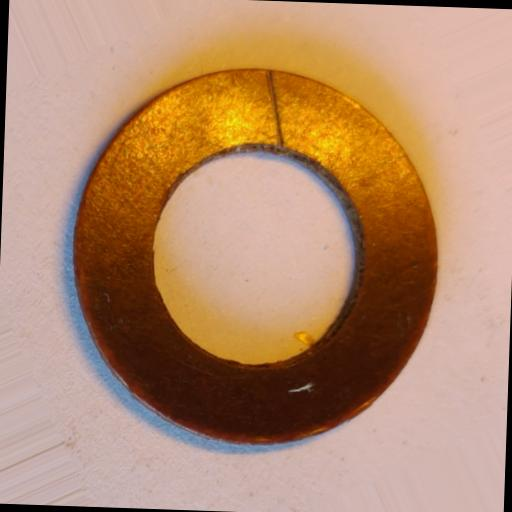defect: (260, 68, 286, 148)
